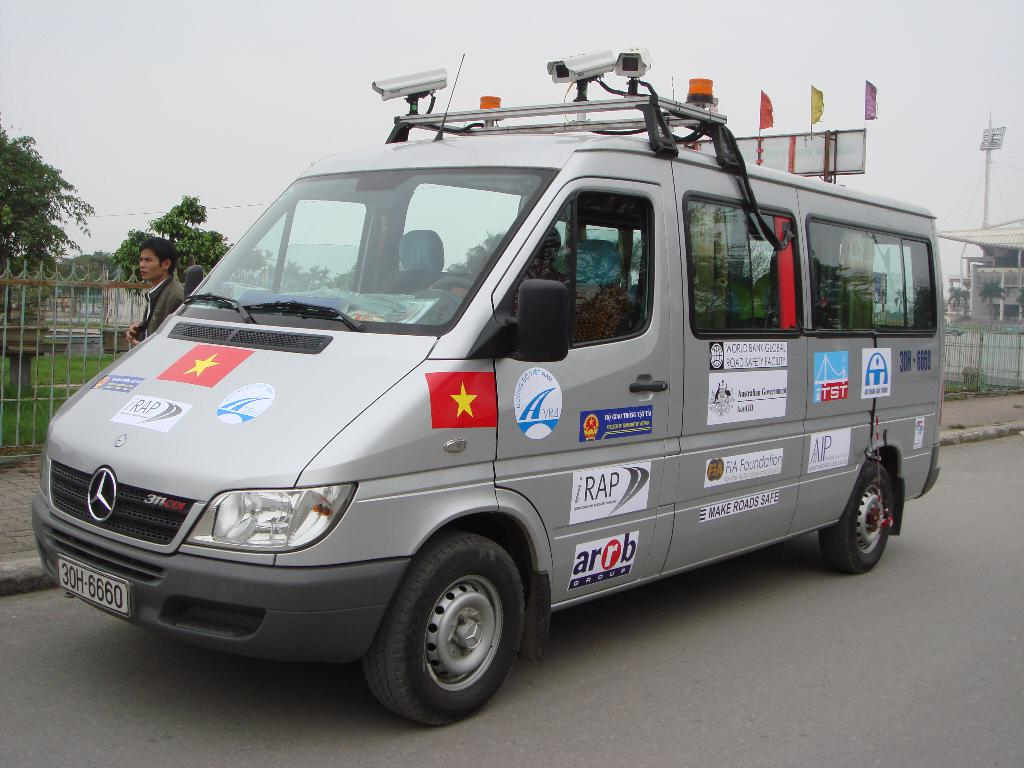Tree: (0, 108, 92, 324), (103, 190, 270, 303), (266, 253, 332, 287)
